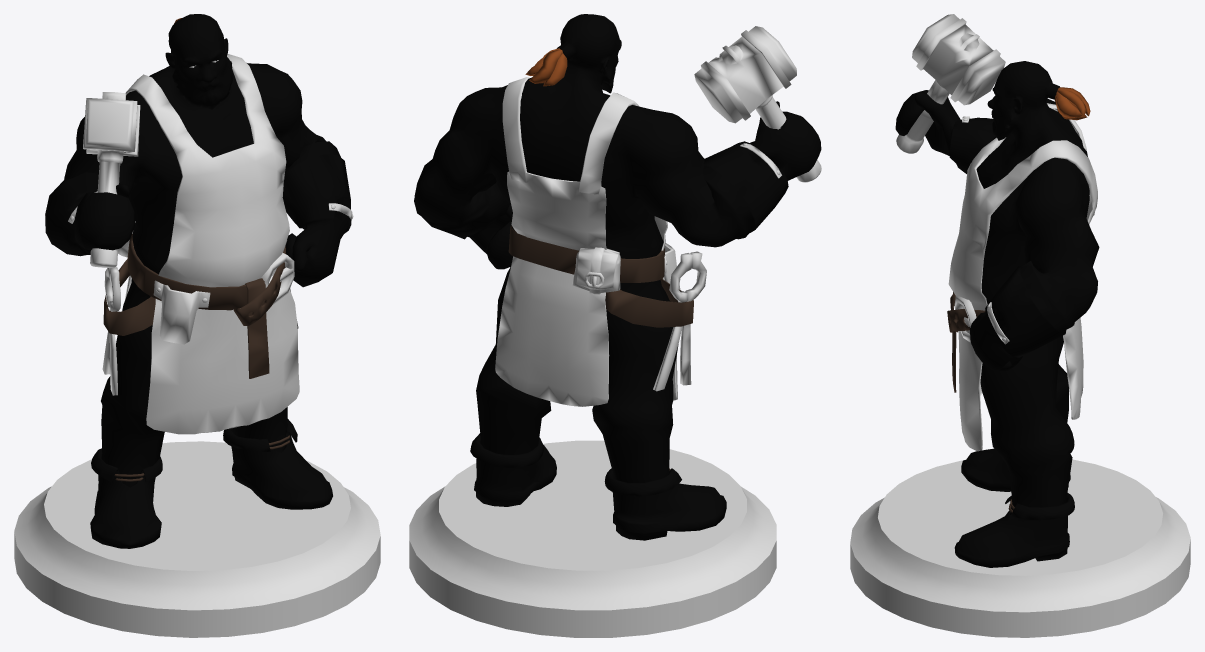
File: Figurka_blacksmith.fbx
The picture shows the model from 3 angles, left to right: view 1: azimuth 30°, elevation 25°; view 2: azimuth 150°, elevation 25°; view 3: azimuth 270°, elevation 25°; orthographic projection. The views are drawn at different scales.
Visible parts, largest first — view 1: Figurka_blacksmith; view 2: Figurka_blacksmith; view 3: Figurka_blacksmith.
Part boxes in pixels (box(x1,y1,x2,y2)): Figurka_blacksmith: box(14, 14, 380, 637); Figurka_blacksmith: box(409, 14, 821, 637); Figurka_blacksmith: box(850, 14, 1190, 637).
Bounding box in the file's own units: 3.14 × 4.96 × 3.04.
